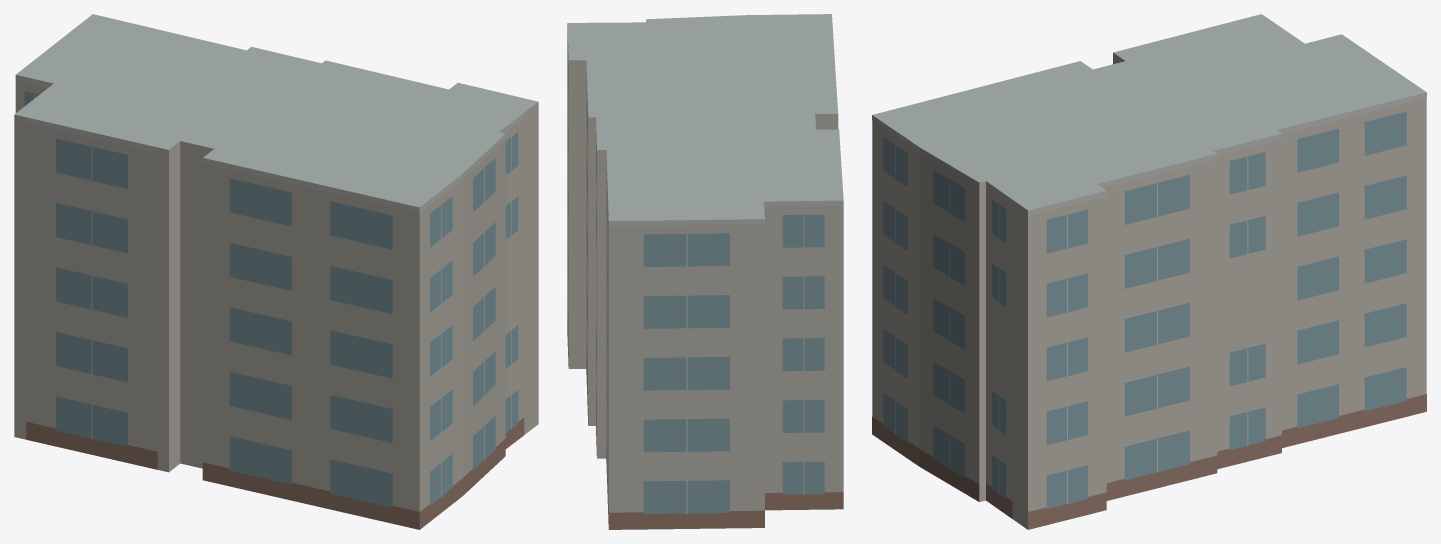
The model's file is survey-upis-33007832.glb.
3 views of the same model, side by side, from view 1: azimuth 30°, elevation 25°; view 2: azimuth 150°, elevation 25°; view 3: azimuth 270°, elevation 25° (orthographic). The views are drawn at different scales.
Parts seen in each view (by area): view 1: survey-upis-33007832.tmp; view 2: survey-upis-33007832.tmp; view 3: survey-upis-33007832.tmp.
Part boxes in pixels (x1=…): survey-upis-33007832.tmp: x1=14, y1=14, x2=538, y2=529; survey-upis-33007832.tmp: x1=567, y1=14, x2=843, y2=529; survey-upis-33007832.tmp: x1=872, y1=14, x2=1426, y2=529.
Bounding box in the file's own units: 18.74 × 14.2 × 22.35.
